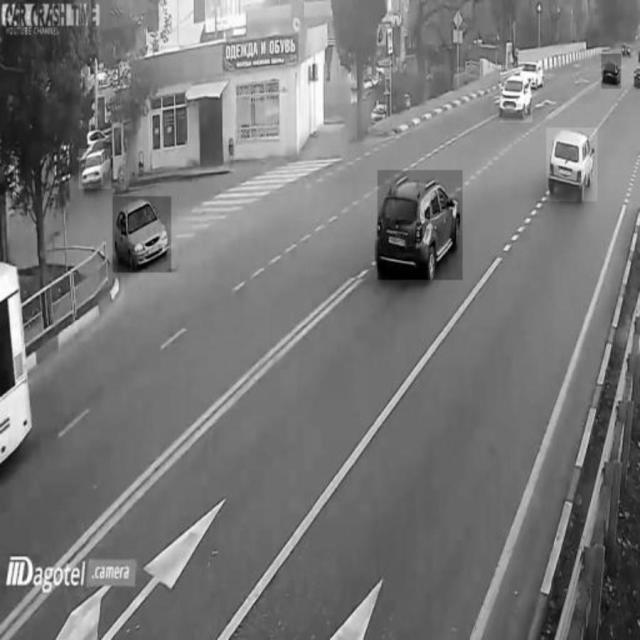vehicle: (378, 171, 462, 281), (113, 197, 171, 273), (546, 128, 597, 201), (501, 65, 533, 123), (80, 149, 112, 189), (602, 54, 622, 89)
